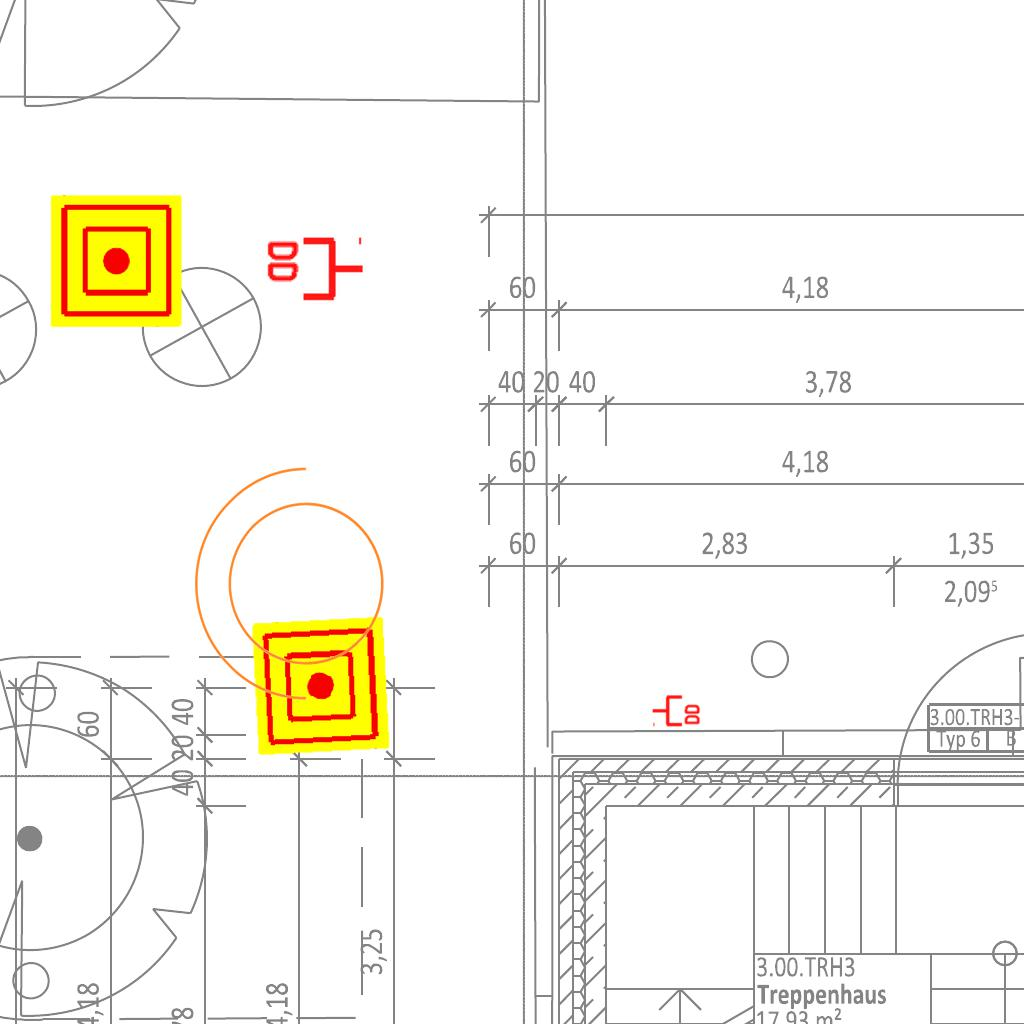Datenanschluss_zweifach: (263, 236, 366, 305), (651, 693, 702, 727)
NAM-Nichtautomatischer_Melder: (251, 616, 391, 756), (50, 195, 182, 327)
Scheinwerfer_fuer_Alarmbeleuchtung: (184, 458, 409, 722)
